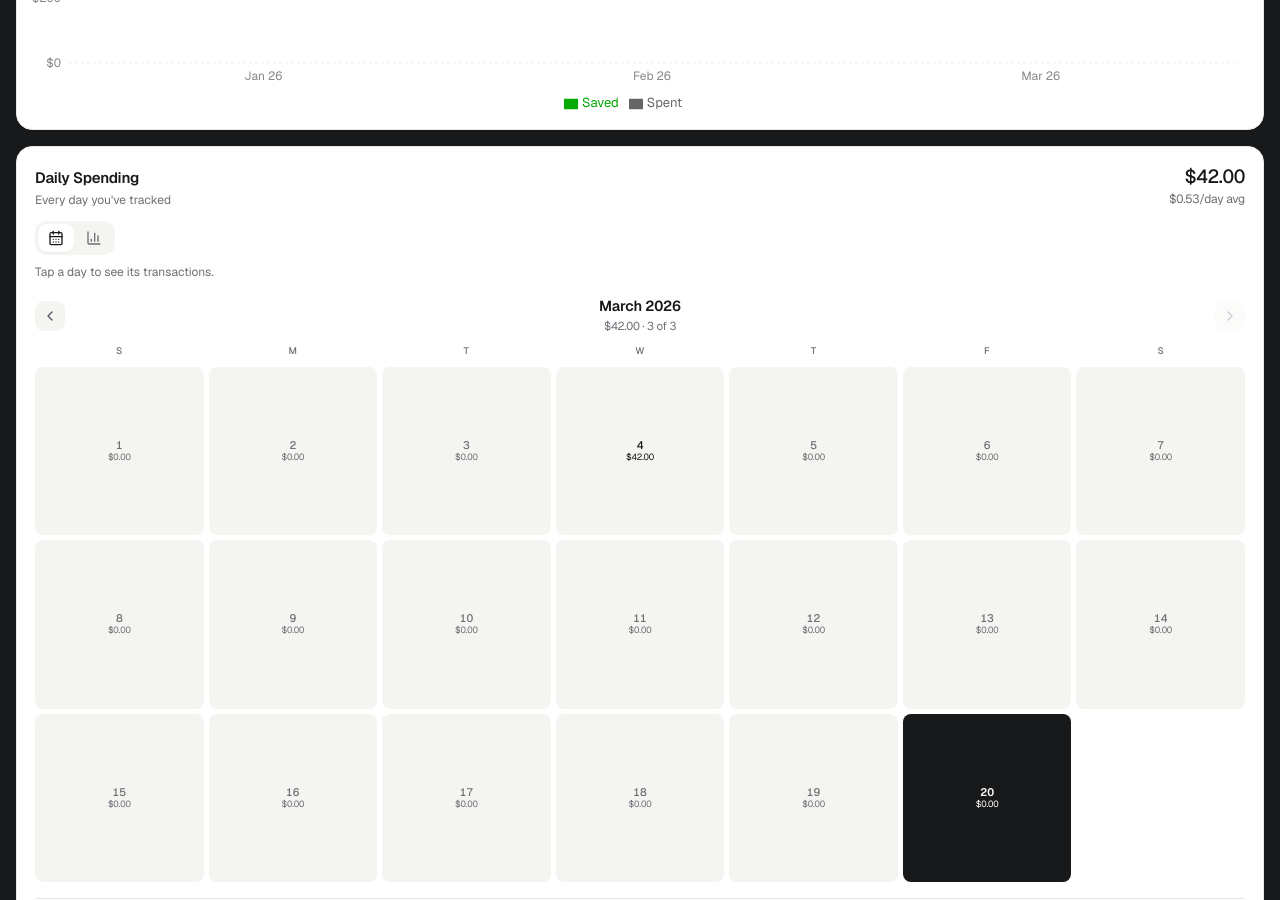
it: the daily calendar › still opens a day's transactions
The image size is (1280, 900).
(page scrolled)
Click the button named "4 Mar: spent": (640,451) [556, 366, 724, 535]
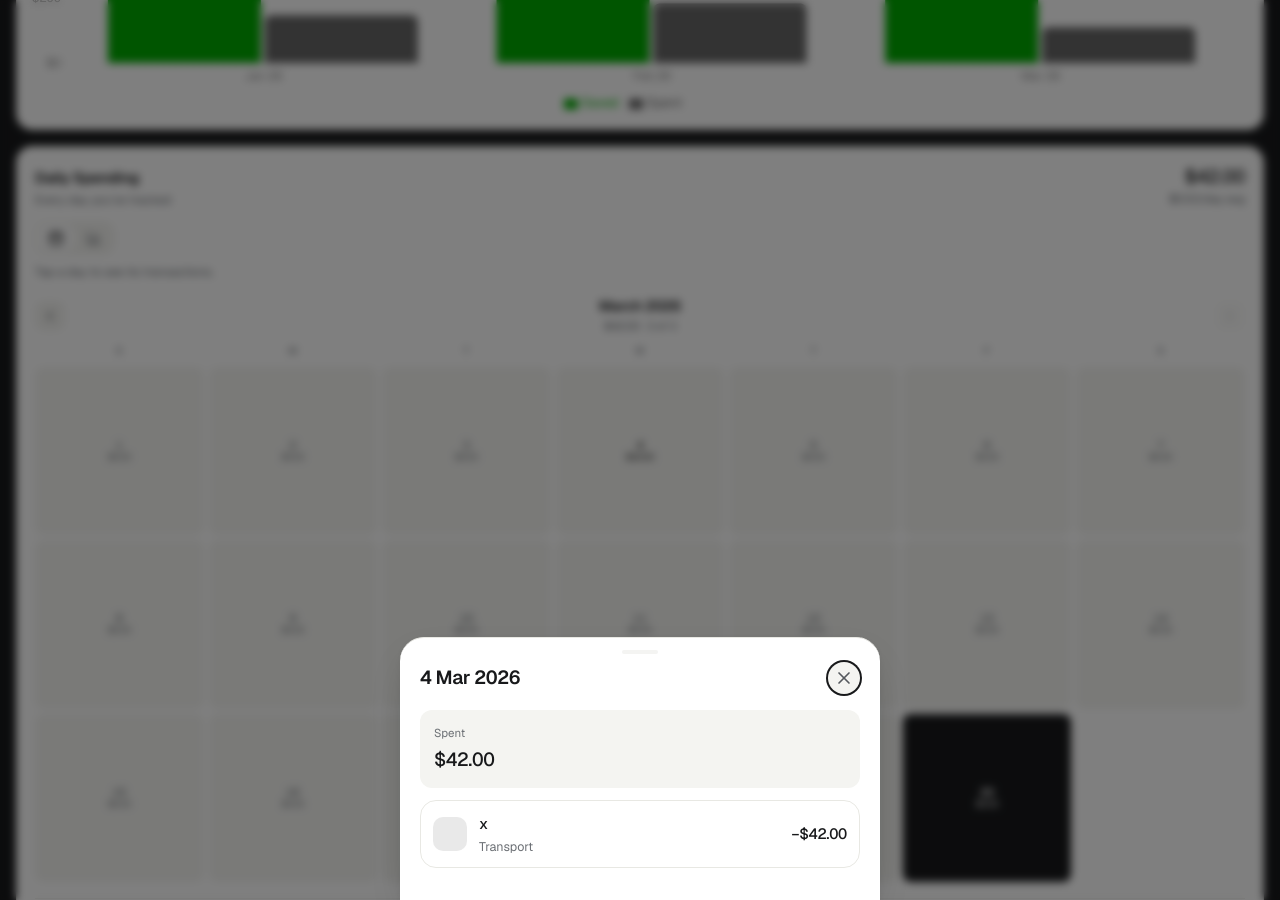
Result: the text "Transport" is shown at [479, 838, 533, 855]
